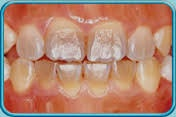Tooth Discoloration: (44, 19, 157, 62), (33, 60, 163, 96)
